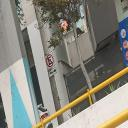NoEstacionar: (43, 51, 58, 79)
